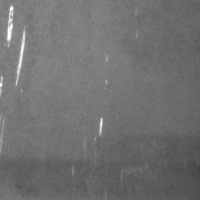scratches: (2, 2, 27, 90), (89, 113, 106, 143)
